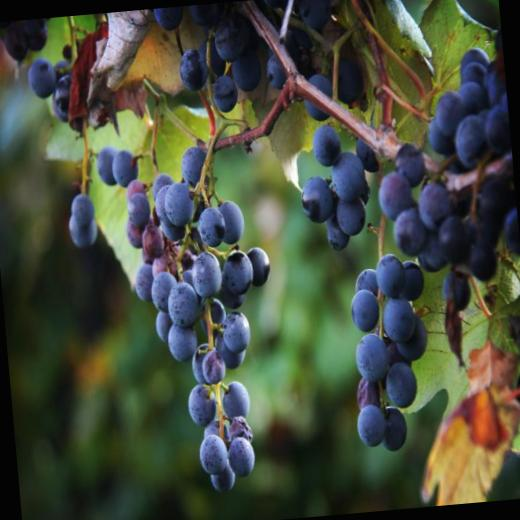Orange: (327, 42, 520, 453), (110, 140, 290, 498), (154, 0, 386, 262), (25, 40, 127, 251), (0, 17, 48, 64)
